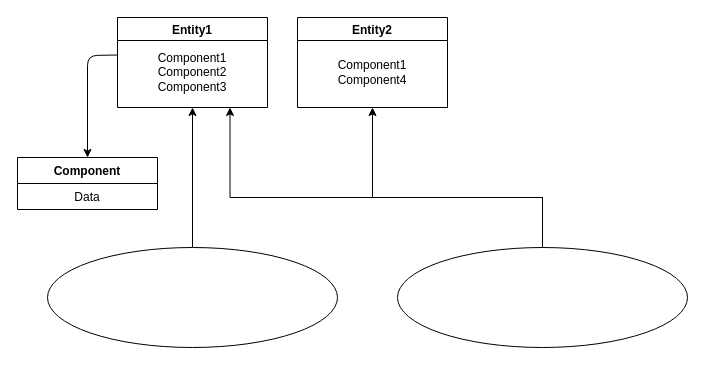
Some shapes in this 705 by 365 pixel diagram are drawn without their labels. Here are the shapes that lost their labels. From the top down, the centre of each, then its label:
At [192,297]: "System1 For every entity that has Component2 and Component3, do...".
At [542,297]: "System2 For every entity that has Component1, do...".
